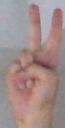V: (2, 2, 65, 121)
